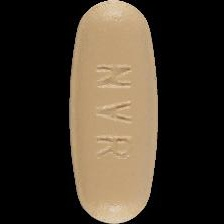0078-0489: (0, 0, 224, 224)
